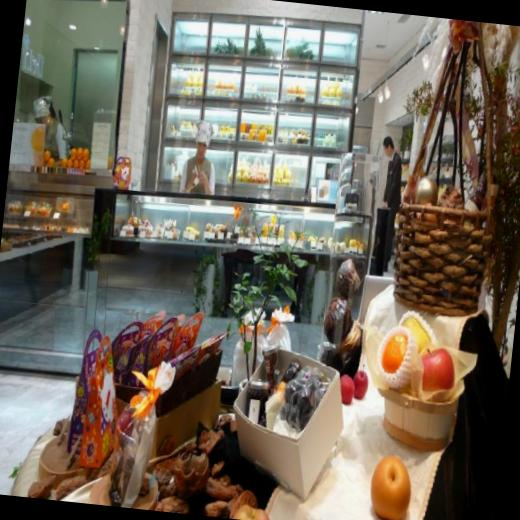Apple: (367, 453, 416, 520), (416, 344, 458, 394), (350, 362, 370, 399), (338, 374, 355, 405)
